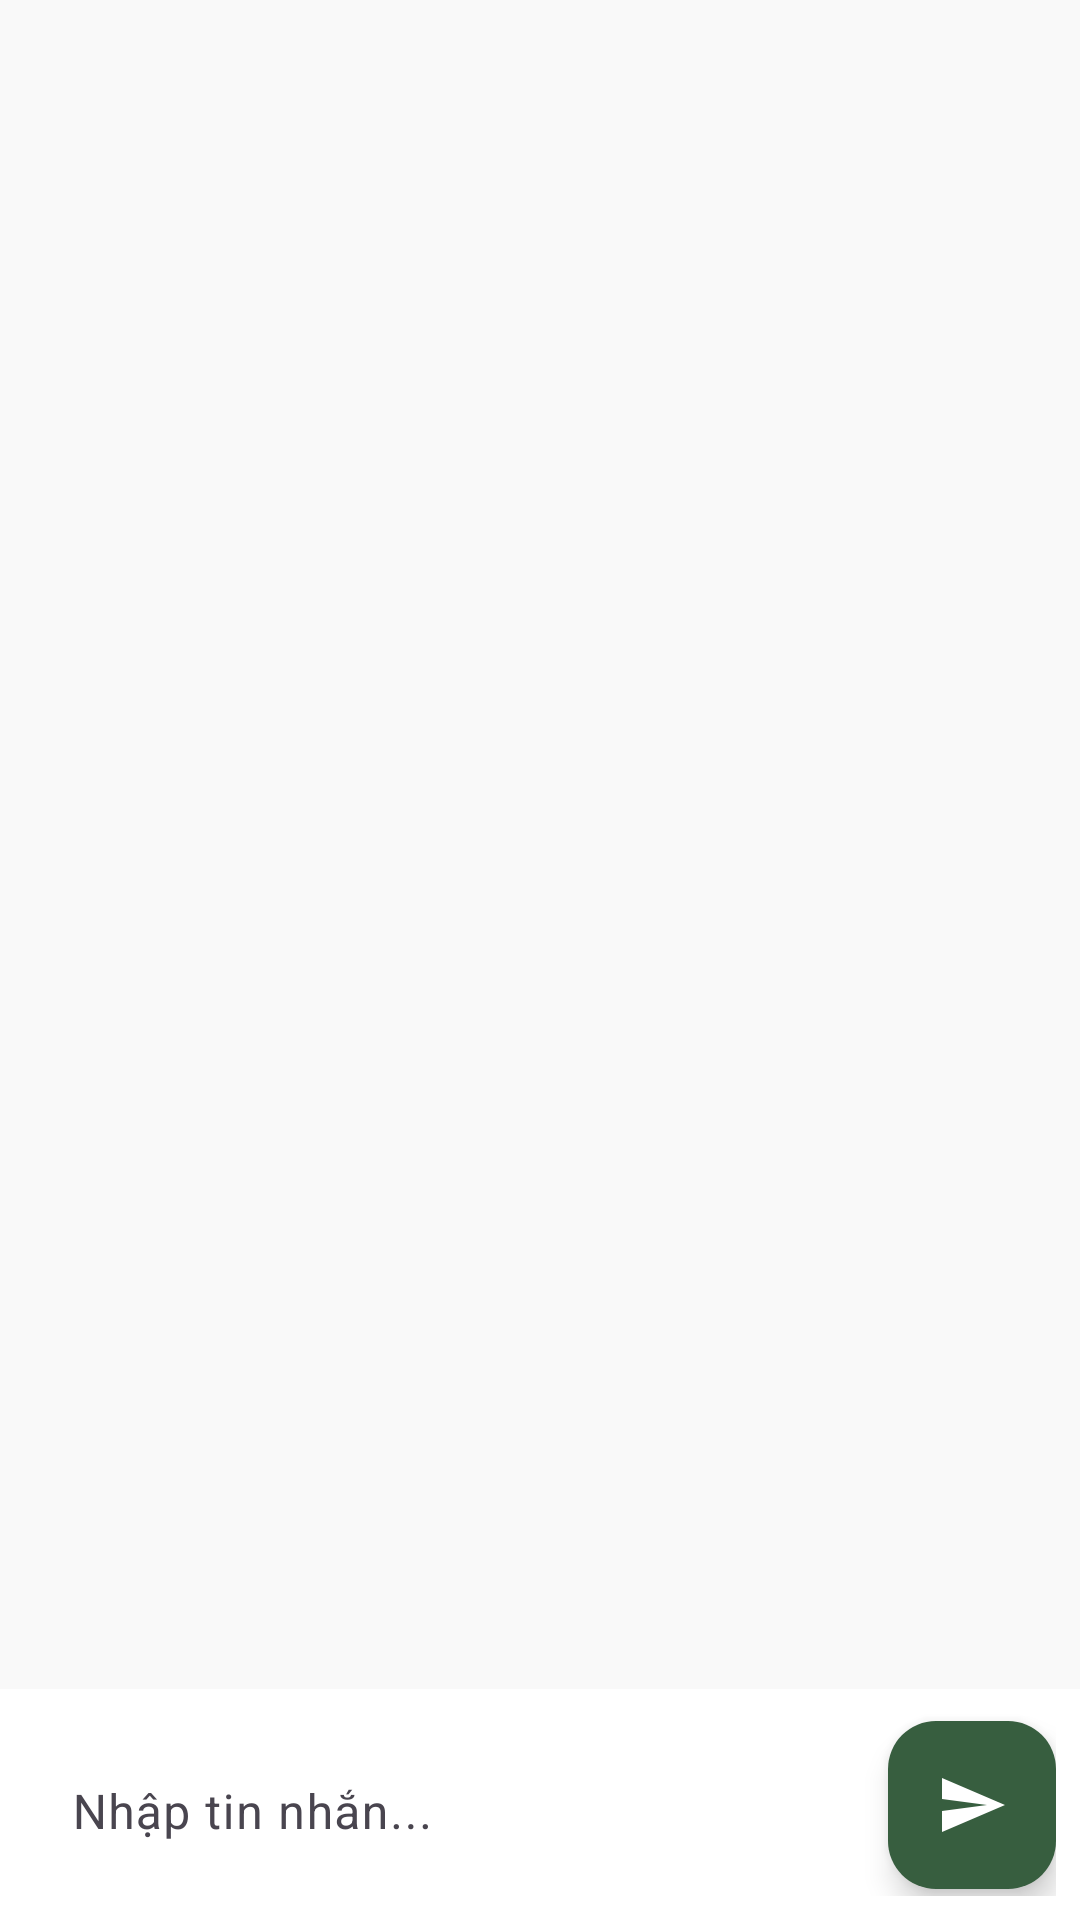

Icons on this 1080x1920 Android screen, each with its box as (x1, y1, x2, y2):
Gửi tin nhắn: (888, 1721, 1056, 1889)
